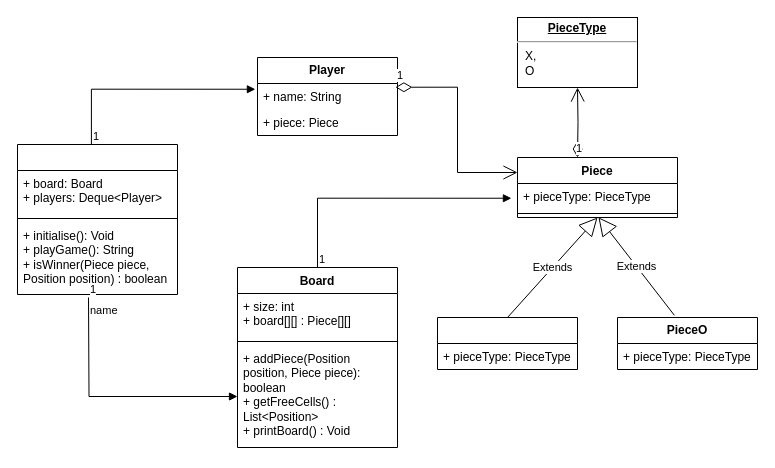
Image size: 775x468. Some labels were removed from this diagram. The shapes that lost their labels are listed below. From the top down, each one's box as (x1, y1, x2, y2) in pixels, then its label:
(16, 144, 178, 294): TicTacToeGame
(436, 316, 578, 370): PieceX
